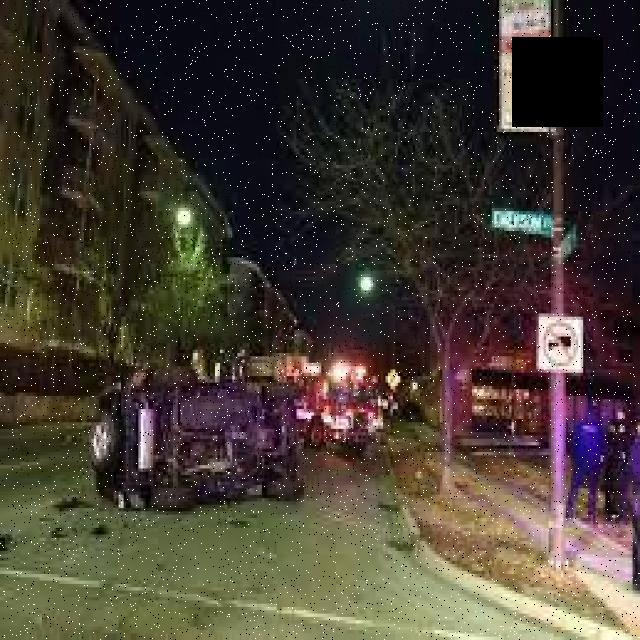severe: (88, 360, 302, 514)
